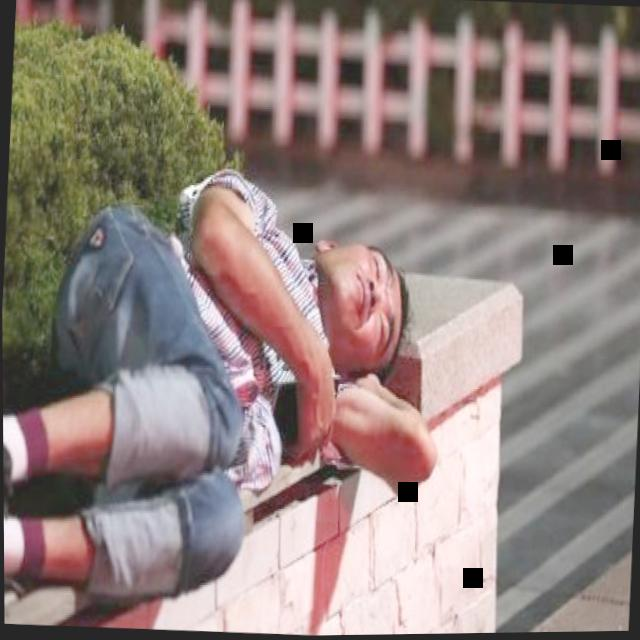Fall-Detected: (1, 132, 458, 622)
